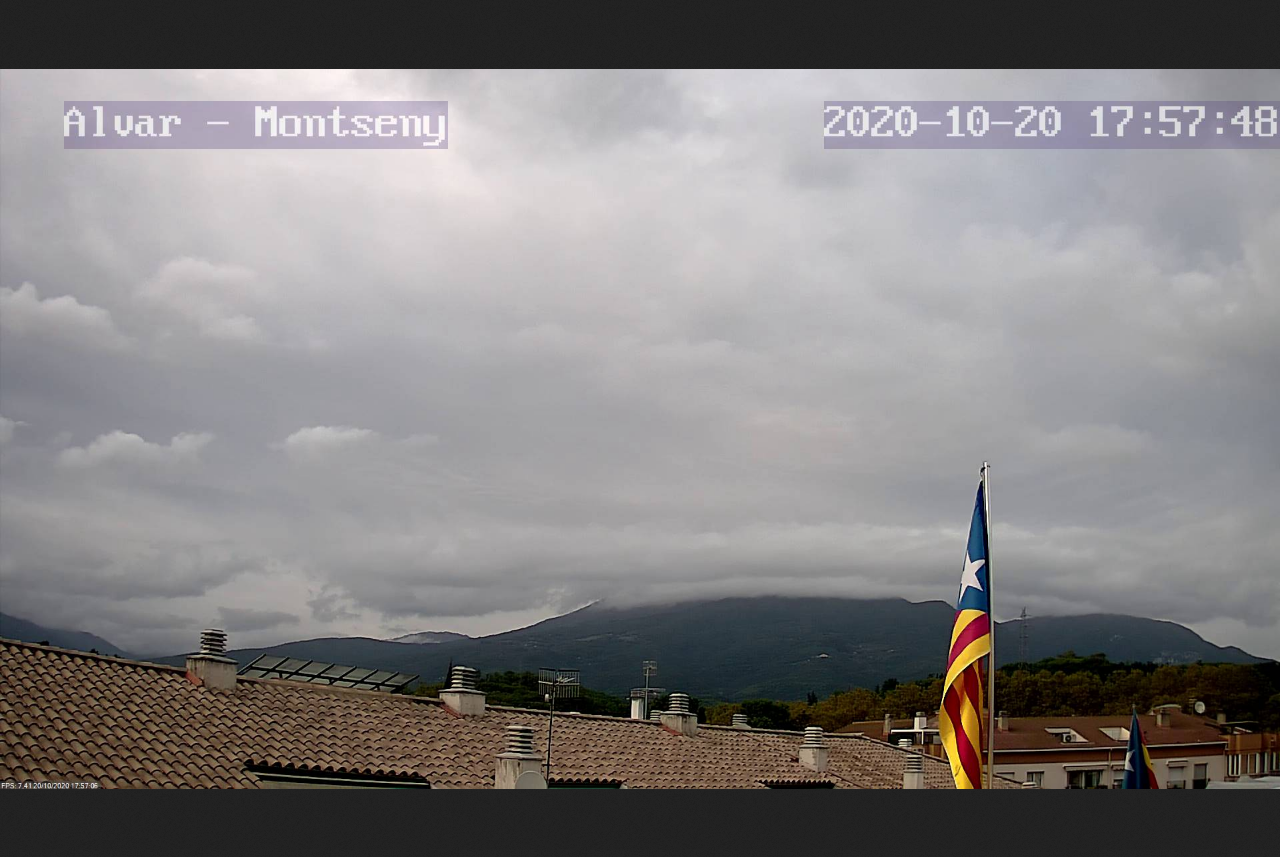no: (928, 445, 1013, 799)
